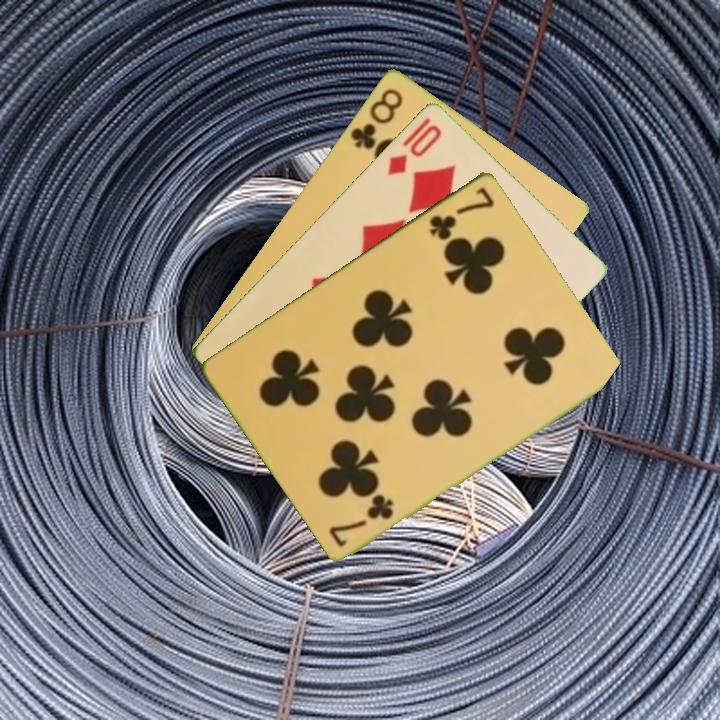10d: (383, 120, 444, 178)
7c: (425, 182, 498, 243), (326, 492, 397, 550)
8c: (346, 84, 406, 152)
